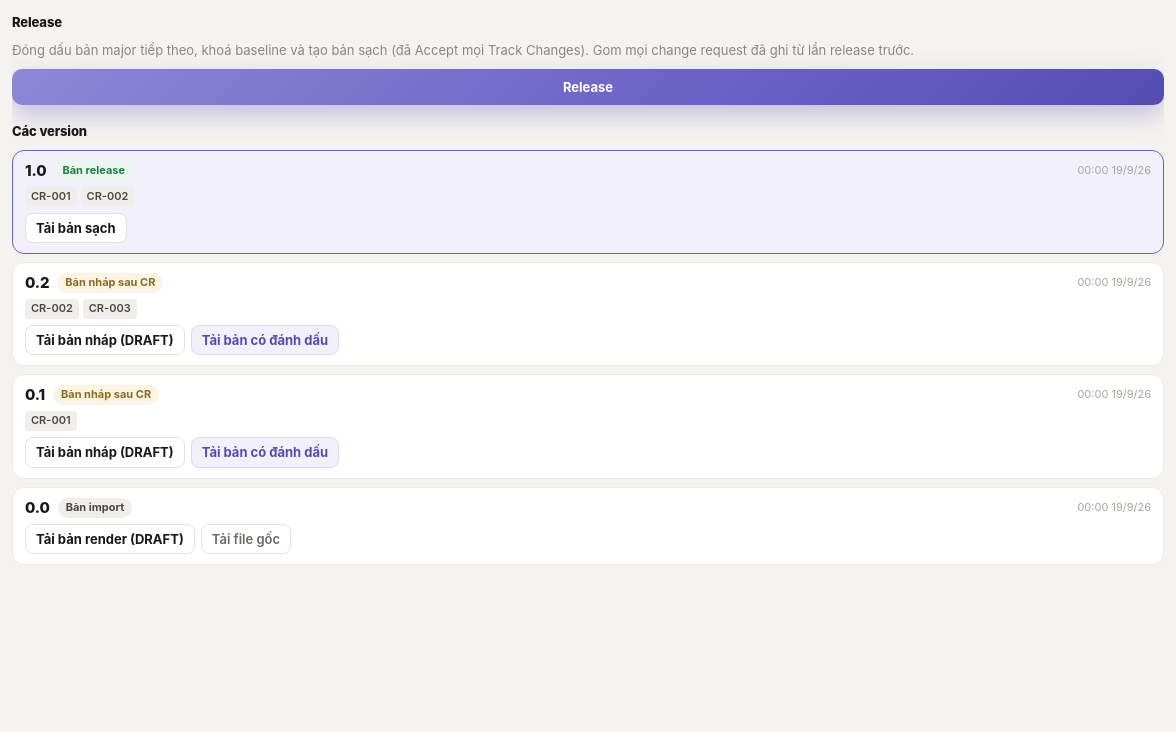
Test: VersionsPanel — nút Release (BR-04, Flow 6) › bản mới nhất đã là release ⇒ hộp xác nhận cảnh báo release lại
This screenshot has width=1176, height=732.
Click the button "Release": point(588, 87) [12, 69, 1164, 105]
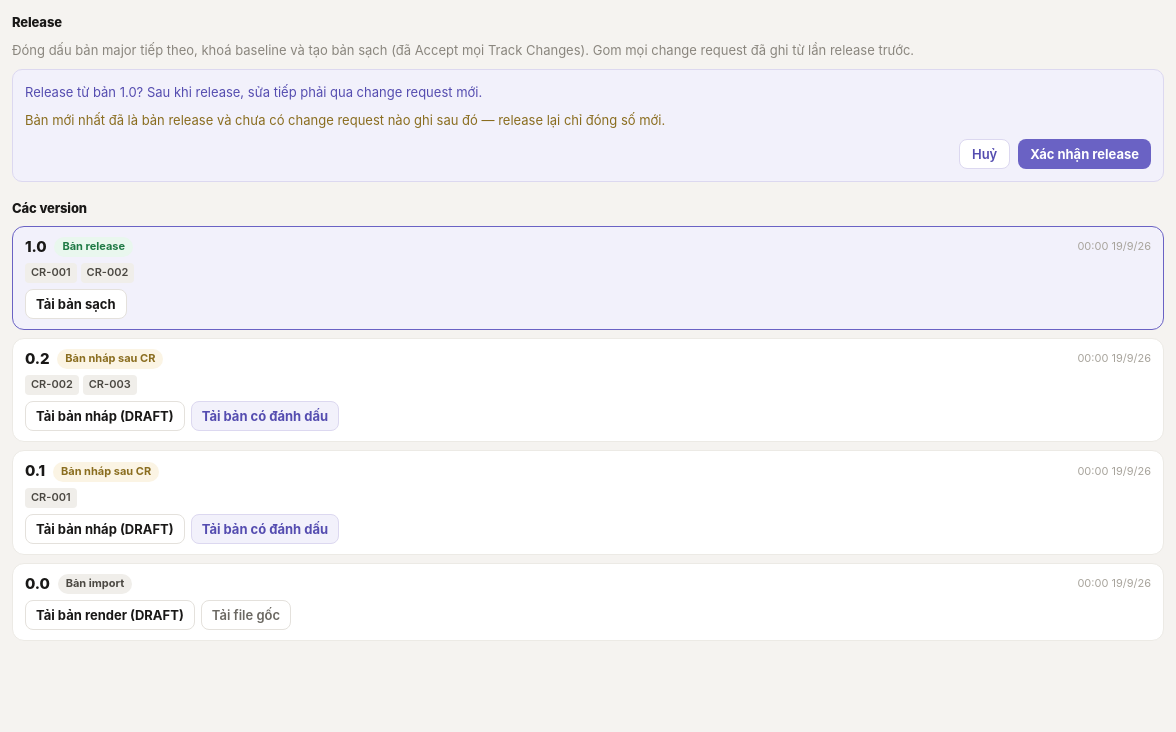
Now the text "đã là bản release và chưa có change request nào ghi sau đó" is shown, box [25, 112, 665, 128]
